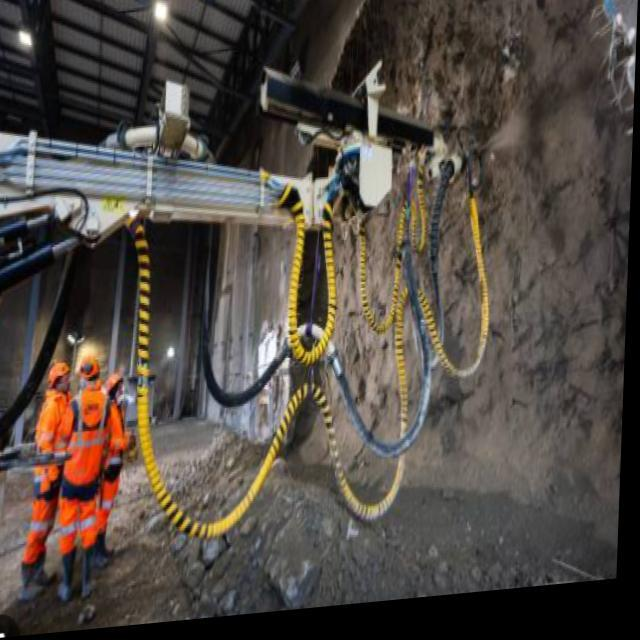boots: (55, 541, 101, 608), (15, 554, 58, 605), (91, 526, 118, 572)
helmet: (46, 359, 74, 399), (77, 350, 104, 387), (105, 367, 127, 404)
vest: (53, 377, 136, 506), (31, 386, 76, 501), (92, 392, 134, 488)
